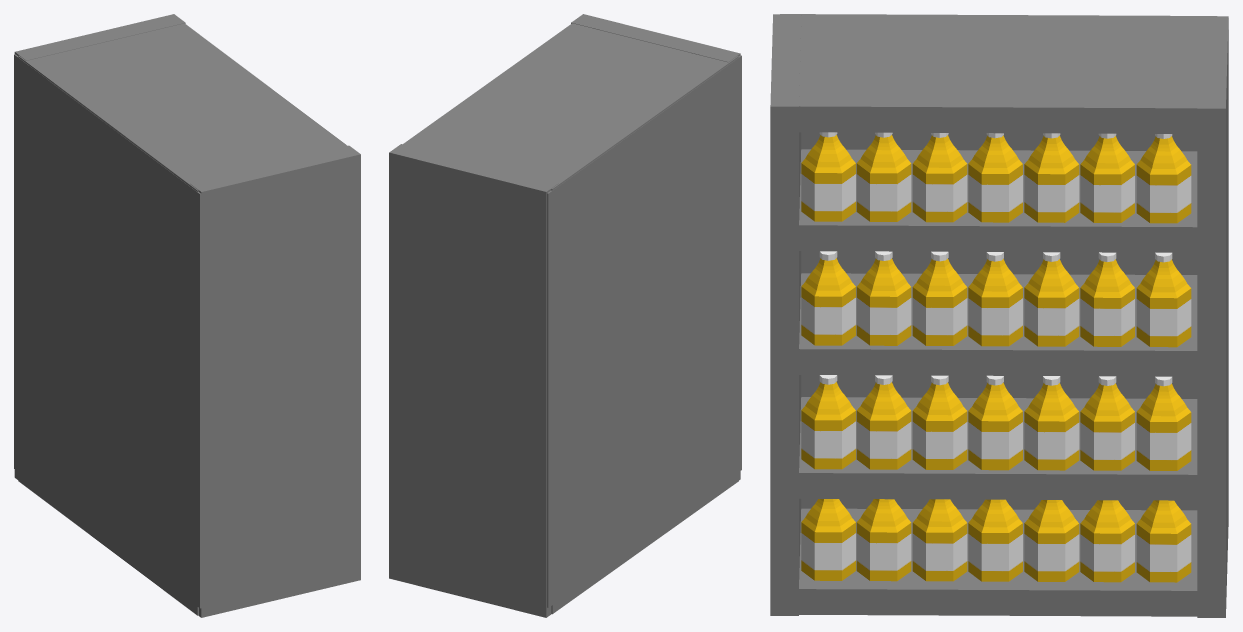
Rendered from mustard_sauce_shelf.gltf.
The picture shows the model from 3 angles, left to right: view 1: azimuth 30°, elevation 25°; view 2: azimuth 150°, elevation 25°; view 3: azimuth 270°, elevation 25°; orthographic projection. The views are drawn at different scales.
Visible parts, largest first — view 1: Cylinder.004; view 2: Cylinder.004; view 3: Cylinder.004.
Part boxes in pixels (bbox=[...]): Cylinder.004: bbox=[14, 14, 360, 617]; Cylinder.004: bbox=[389, 14, 741, 617]; Cylinder.004: bbox=[770, 14, 1228, 617].
Size of the model in its own units: 4.13 by 10.28 by 8.38.
Materials: 4 (1 with a texture image).
